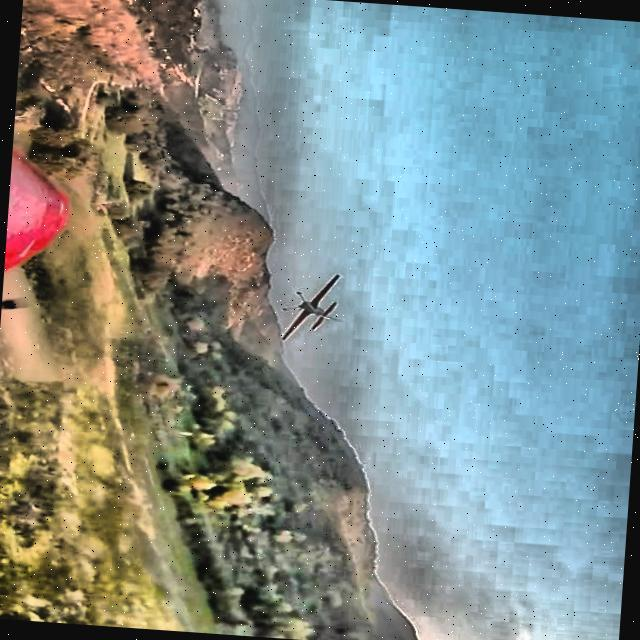iha: (299, 297, 318, 316)
